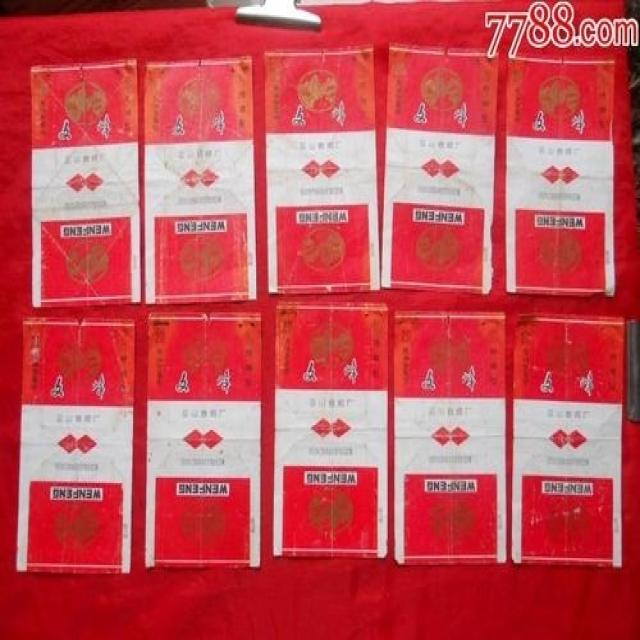box: (15, 317, 134, 573), (273, 302, 389, 560), (380, 43, 498, 295), (145, 312, 261, 568), (511, 312, 626, 567), (393, 311, 507, 565), (265, 44, 380, 294), (145, 56, 257, 304), (31, 60, 141, 307), (506, 53, 617, 297)
